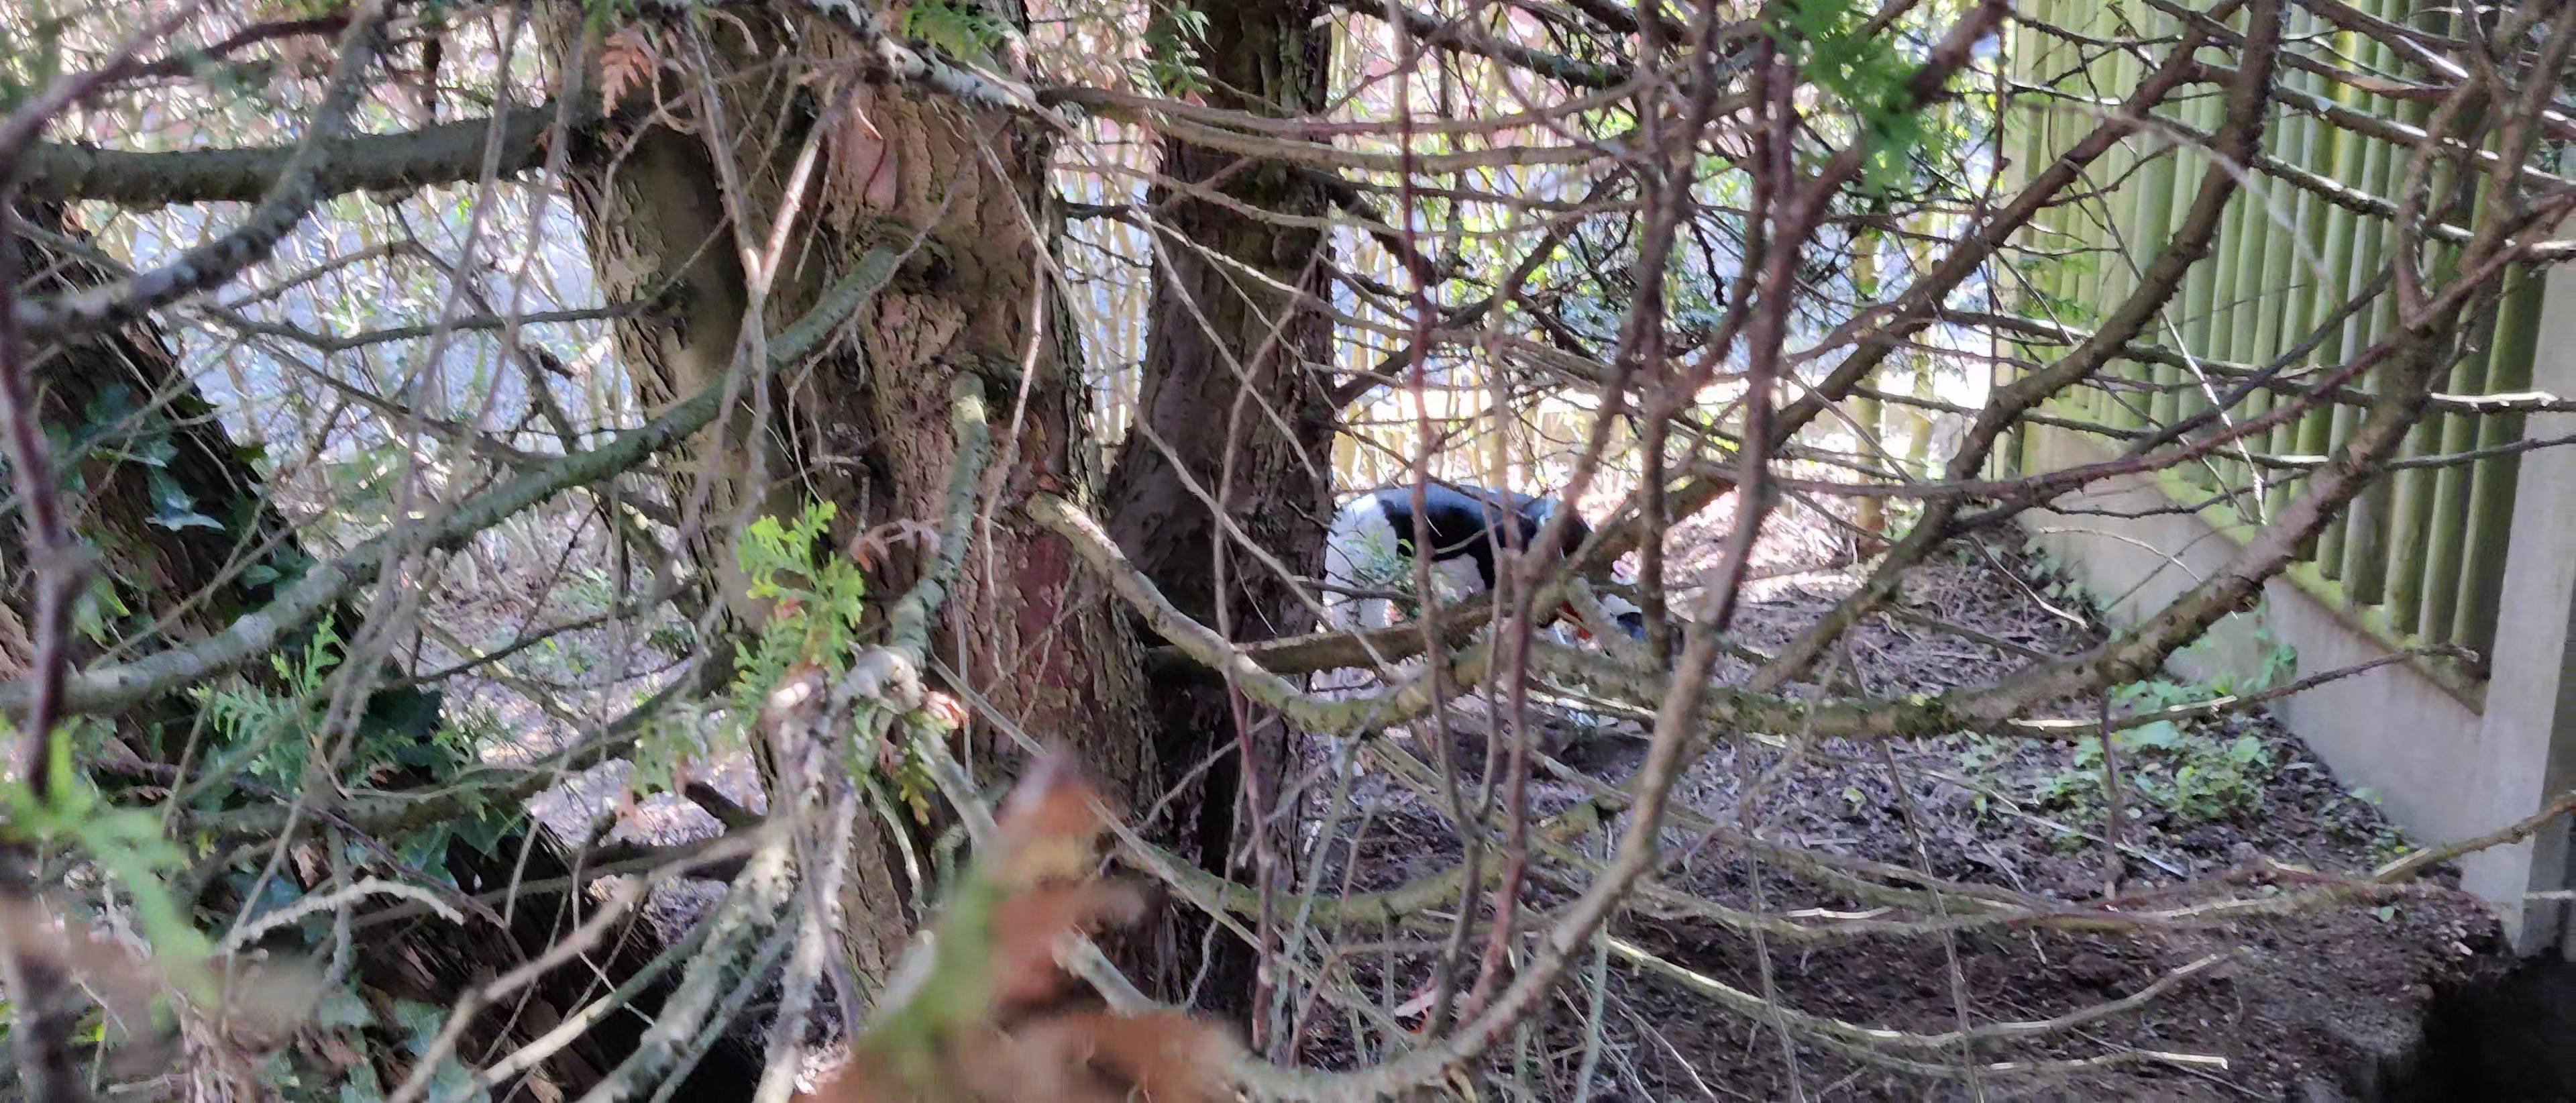Dog: (1314, 470, 1695, 768)
